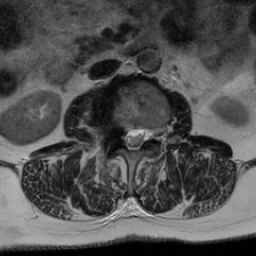CCS_normal: (130, 118, 137, 159)
LFS_normal: (147, 116, 158, 147)
LLS_normal: (137, 118, 147, 151)
RFS_severe_stenosis: (113, 116, 121, 148)
RLS_normal: (121, 119, 130, 153)
